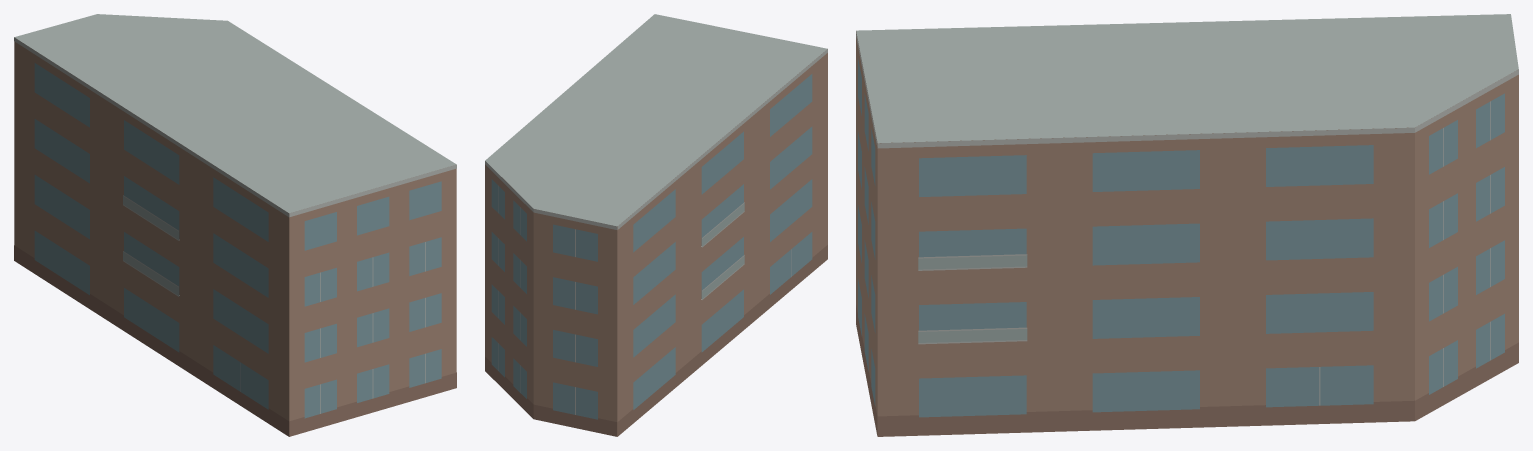
The model's file is survey-upis-33008457.glb.
3 renders of one model, left to right at view 1: azimuth 30°, elevation 25°; view 2: azimuth 150°, elevation 25°; view 3: azimuth 270°, elevation 25°, orthographic. The views are drawn at different scales.
Parts seen in each view (by area): view 1: survey-upis-33008457.tmp; view 2: survey-upis-33008457.tmp; view 3: survey-upis-33008457.tmp.
Boxes of the visible parts, bbox=[...] form: survey-upis-33008457.tmp: bbox=[14, 14, 456, 436]; survey-upis-33008457.tmp: bbox=[485, 14, 827, 436]; survey-upis-33008457.tmp: bbox=[856, 14, 1518, 436].
Size of the model in its own units: 12.74 by 13.5 by 27.62.
